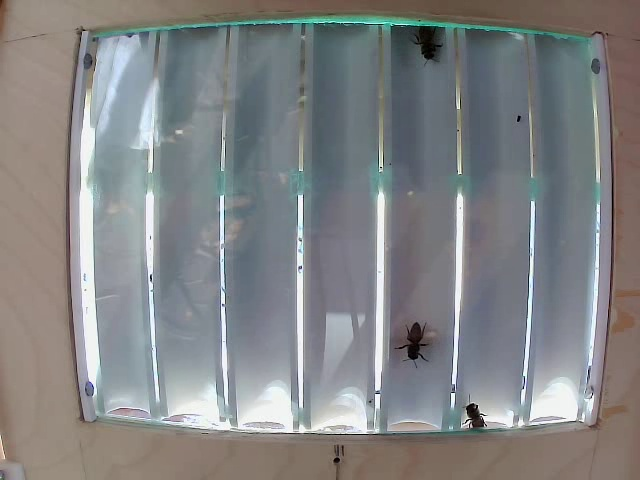bee: (393, 309, 436, 360), (416, 11, 447, 76)
